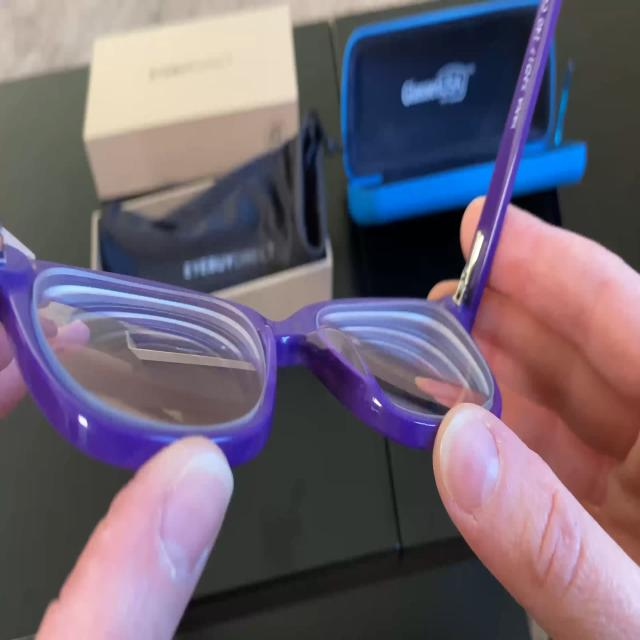glasses: (1, 196, 515, 483)
